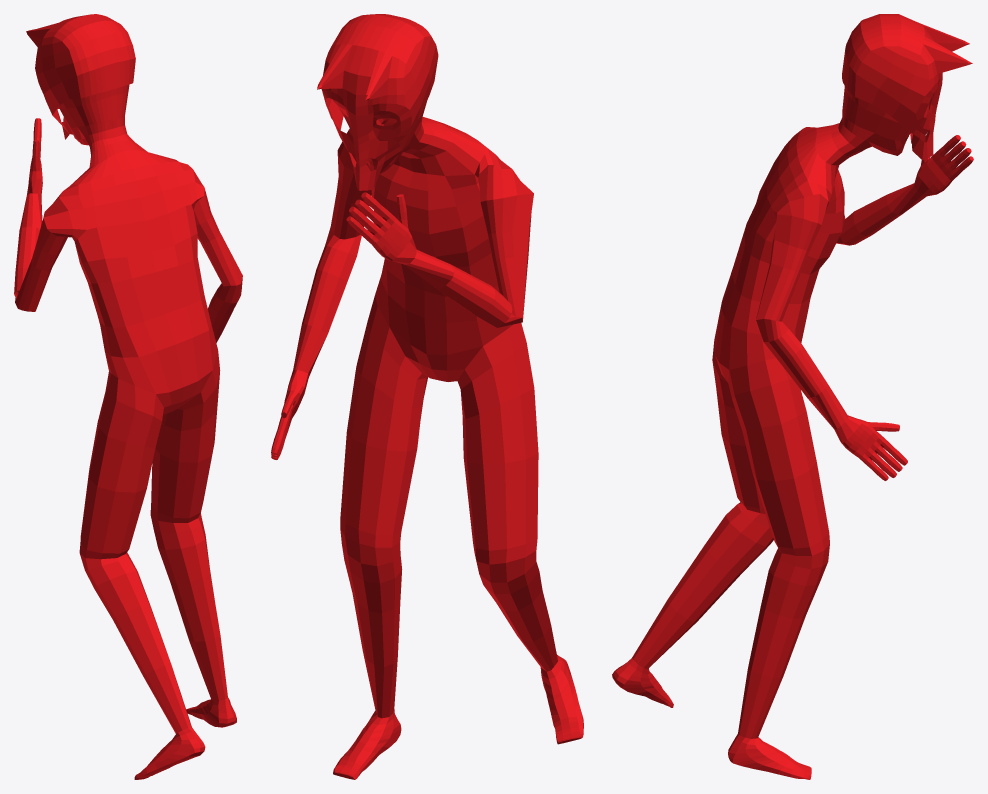
File: correrE_000099.obj
3 views of the same model, side by side, from view 1: azimuth 30°, elevation 25°; view 2: azimuth 150°, elevation 25°; view 3: azimuth 270°, elevation 25° (orthographic). The views are drawn at different scales.
Visible parts, largest first — view 1: Plane.002_Plane.001; view 2: Plane.002_Plane.001; view 3: Plane.002_Plane.001.
Part boxes in pixels (left/top/right/bottom): Plane.002_Plane.001: left=14, top=14, right=242, bottom=779; Plane.002_Plane.001: left=271, top=14, right=583, bottom=779; Plane.002_Plane.001: left=612, top=14, right=973, bottom=779.
Size of the model in its own units: 2.04 by 6.75 by 3.08.
